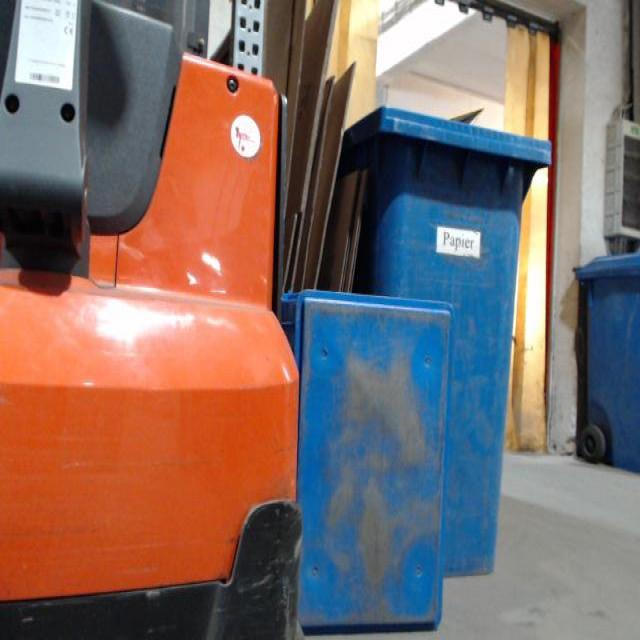pallet_truck: (3, 0, 315, 636)
